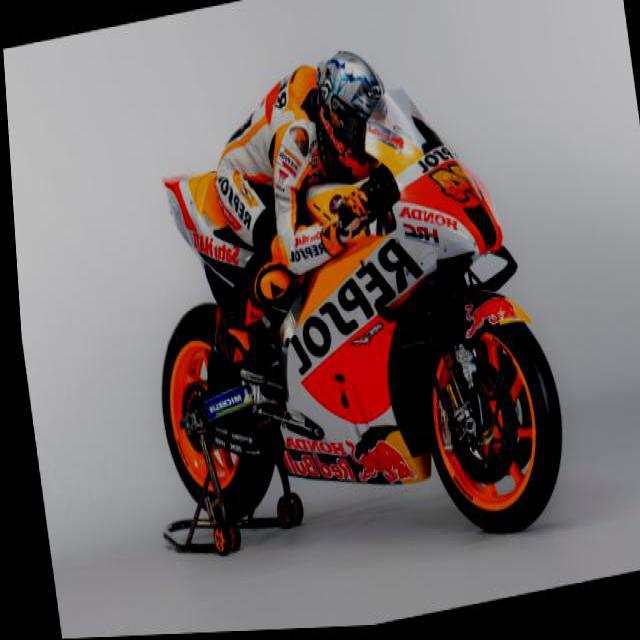HRC RCV 213: (119, 68, 573, 607)
